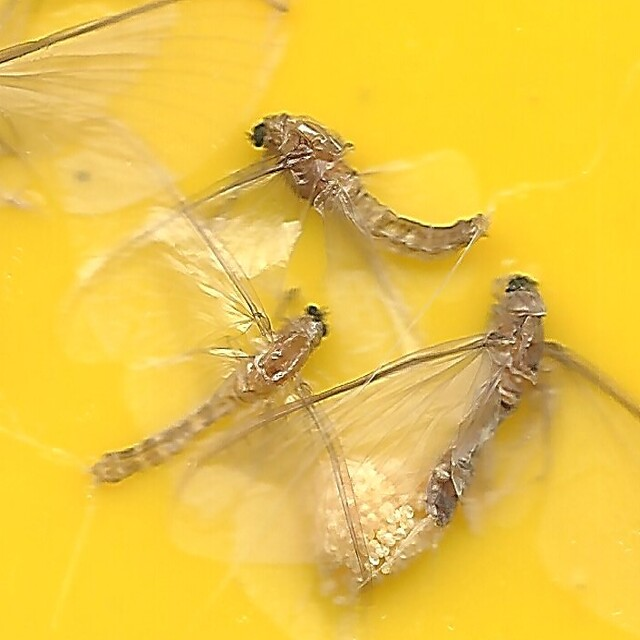Ephemeroptera: (91, 301, 329, 490), (246, 109, 484, 258), (416, 266, 549, 531)
